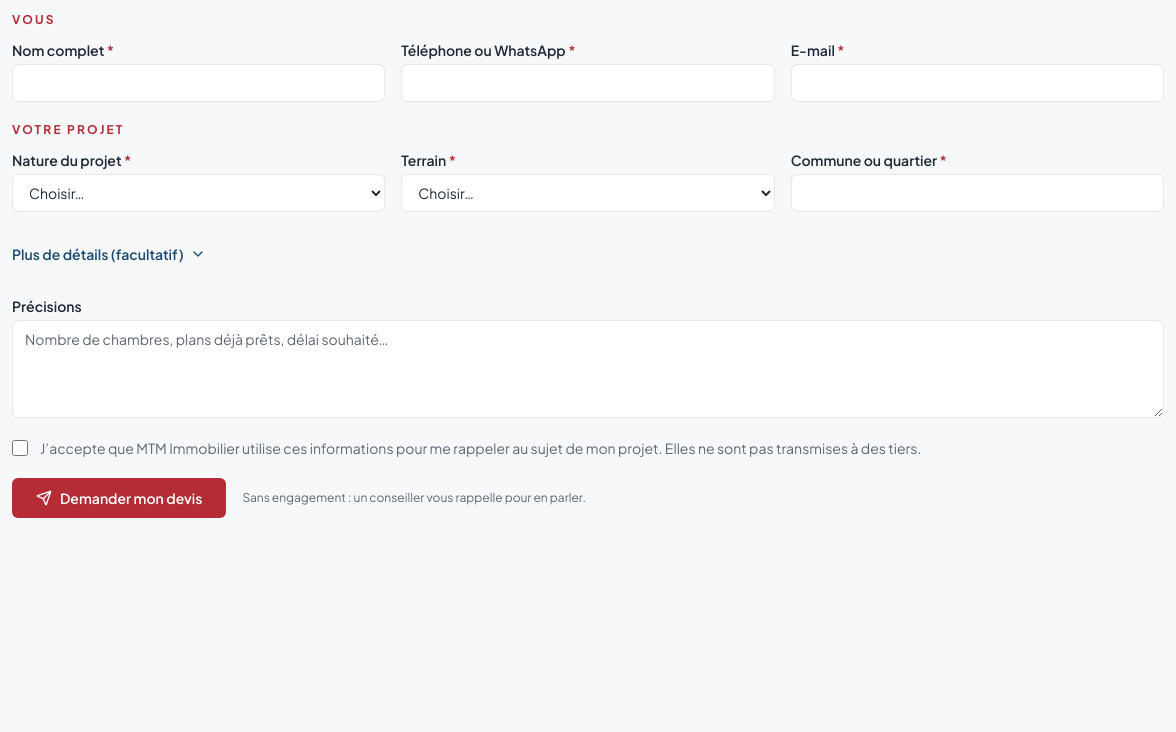
Test: FormulaireDevis › refuse l’envoi tant que les champs essentiels et le consentement manquent
Click the button "Demander mon devis": (119, 498) [12, 478, 226, 518]
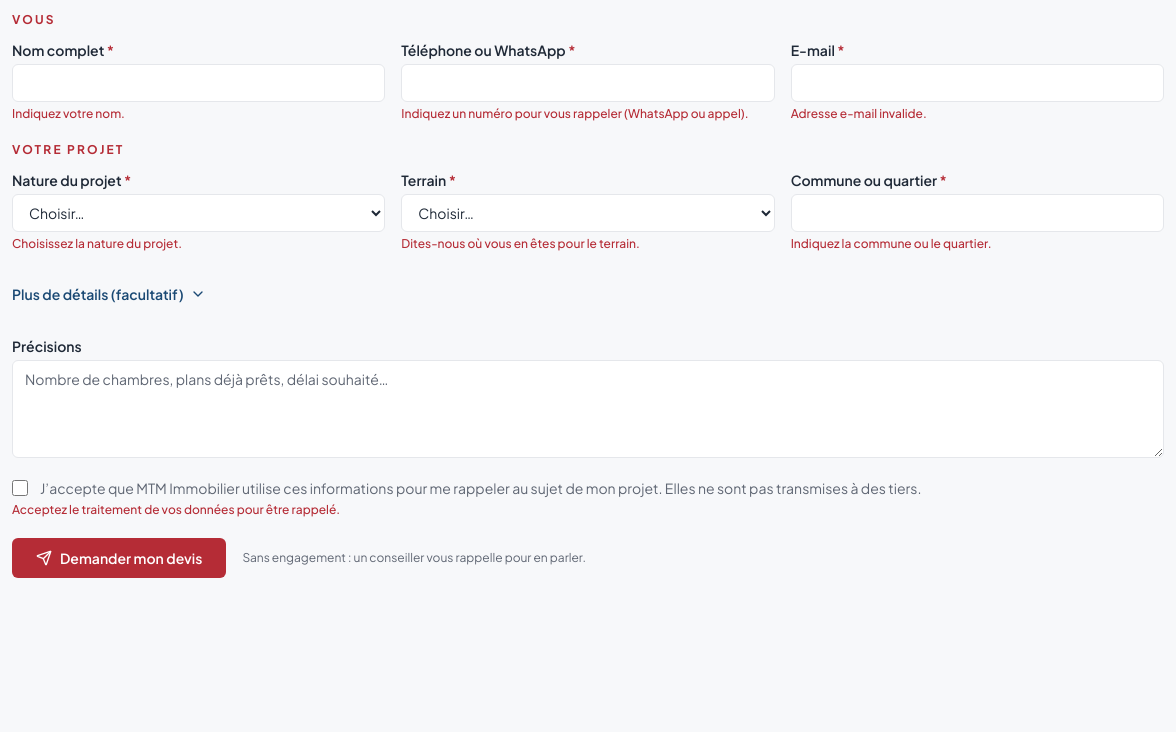
Check: the text "Indiquez votre nom." is shown, box [12, 106, 125, 121]
Check: the text "Choisissez la nature du projet." is shown, box [12, 236, 182, 251]
Check: the text "Acceptez le traitement de vos données pour être rappelé." is shown, box [12, 502, 340, 517]
